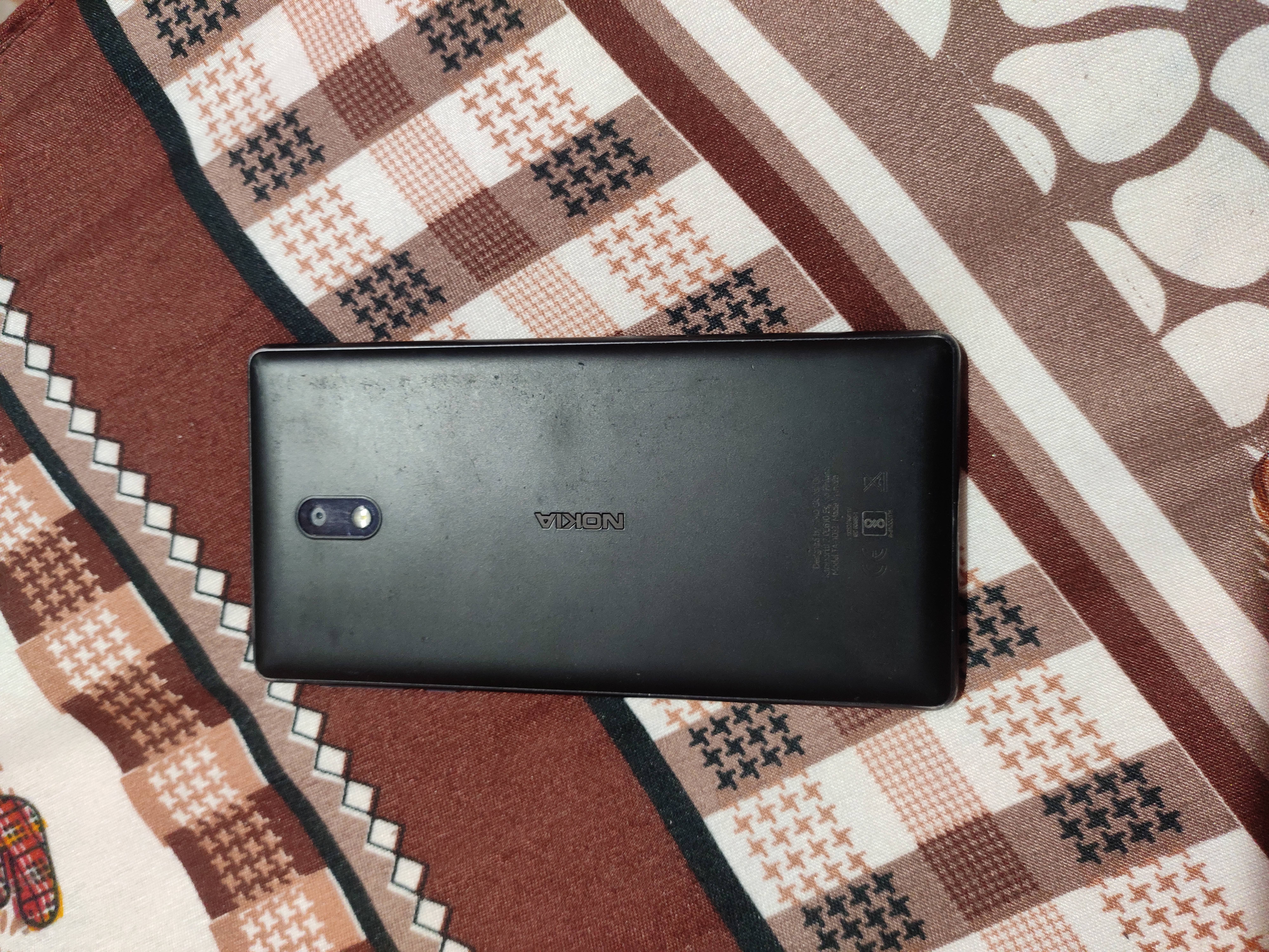Electronics: (227, 319, 1004, 724)
